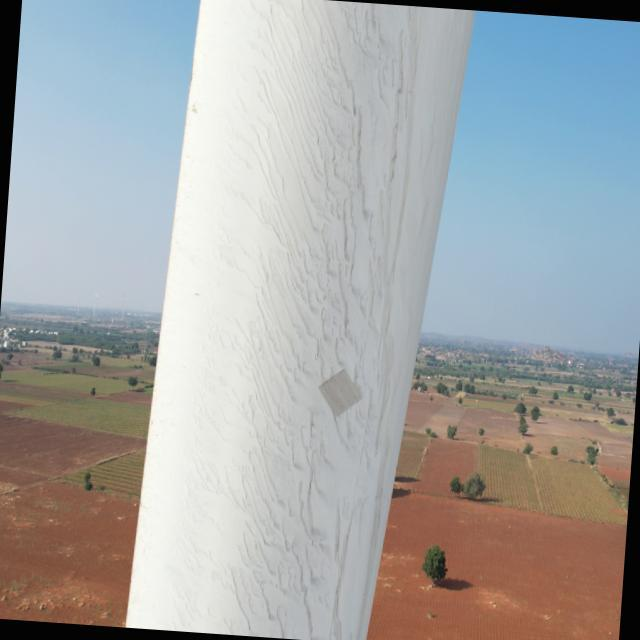Dirt: (200, 6, 429, 640)
